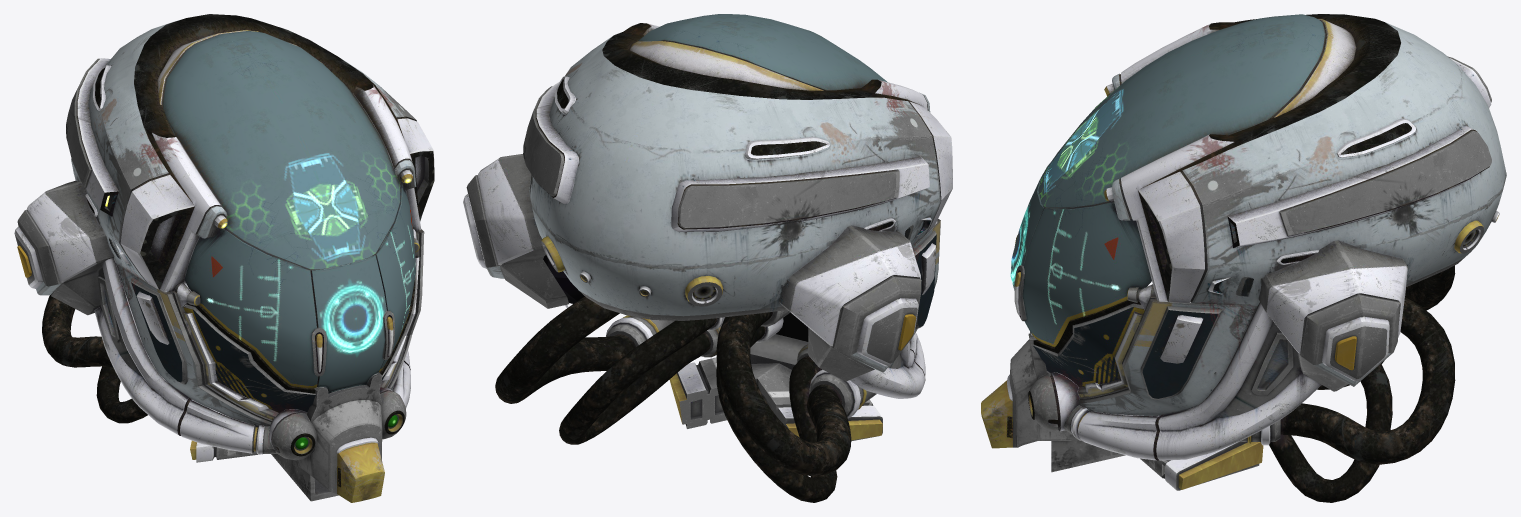
File: DamagedHelmet_8f18cf9f_opt.glb
3 renders of one model, left to right at view 1: azimuth 30°, elevation 25°; view 2: azimuth 150°, elevation 25°; view 3: azimuth 270°, elevation 25°, orthographic. The views are drawn at different scales.
Parts seen in each view (by area): view 1: node_damagedHelmet_-6514; view 2: node_damagedHelmet_-6514; view 3: node_damagedHelmet_-6514.
Boxes of the visible parts, bbox=[...] form: node_damagedHelmet_-6514: bbox=[14, 14, 434, 502]; node_damagedHelmet_-6514: bbox=[463, 14, 952, 502]; node_damagedHelmet_-6514: bbox=[981, 14, 1506, 502].
Bounding box in the file's own units: 1.89 × 1.8 × 2.
Materials: 1 (1 with a texture image).
